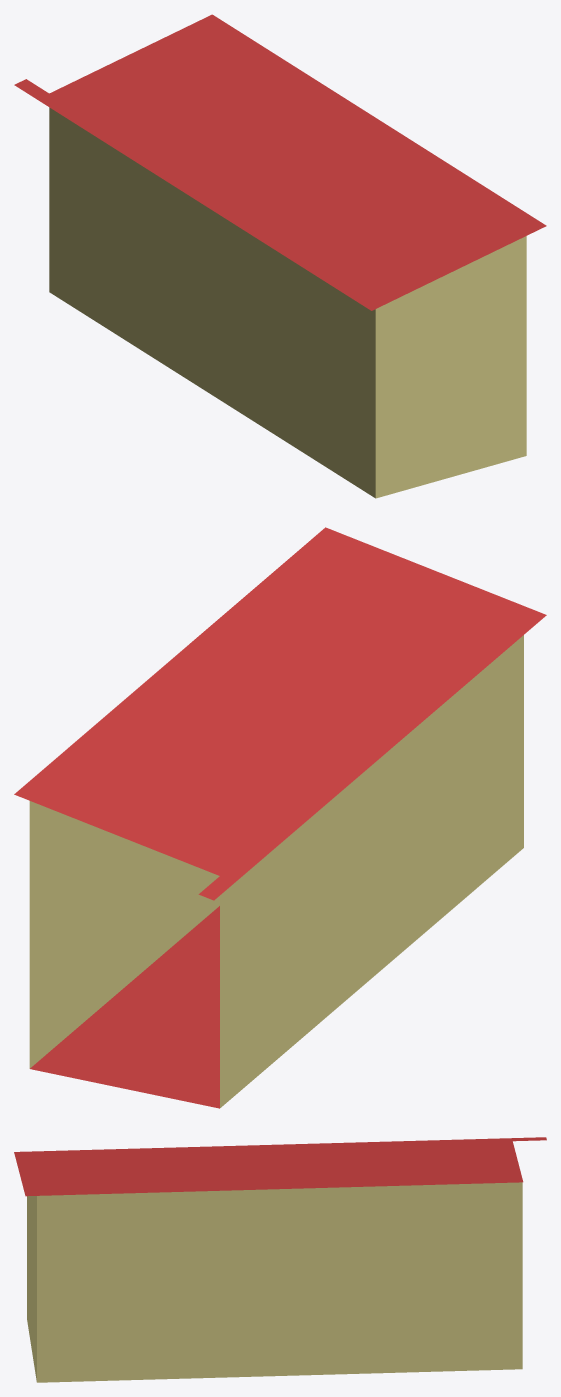
The picture shows the model from 3 angles, top to bottom: view 1: azimuth 30°, elevation 25°; view 2: azimuth 150°, elevation 25°; view 3: azimuth 270°, elevation 25°; orthographic projection. The views are drawn at different scales.
Size of the model in its own units: 8.54 by 21.74 by 8.64.
